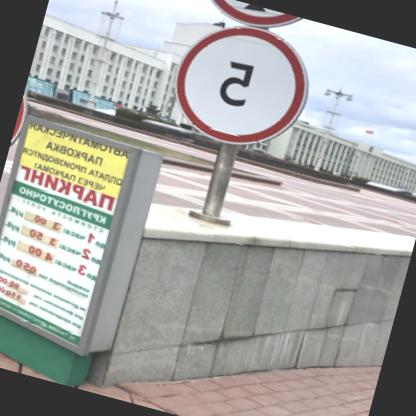speedlimit: (164, 9, 324, 160)
